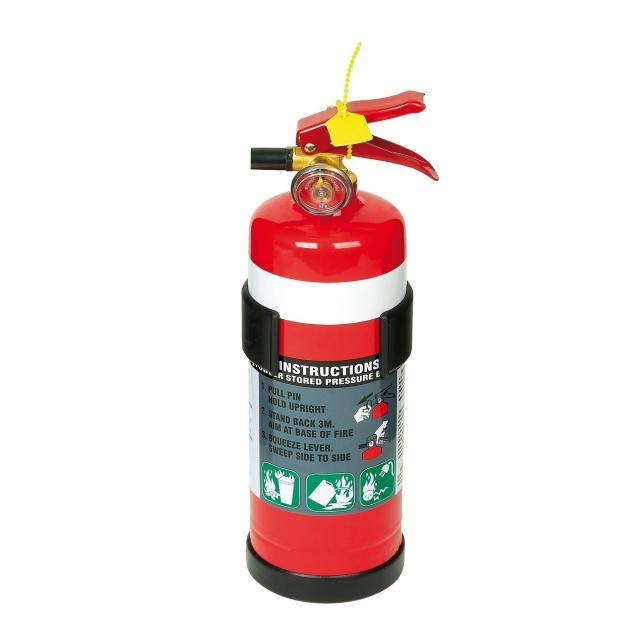fire_extinguisher: (226, 82, 444, 614)
